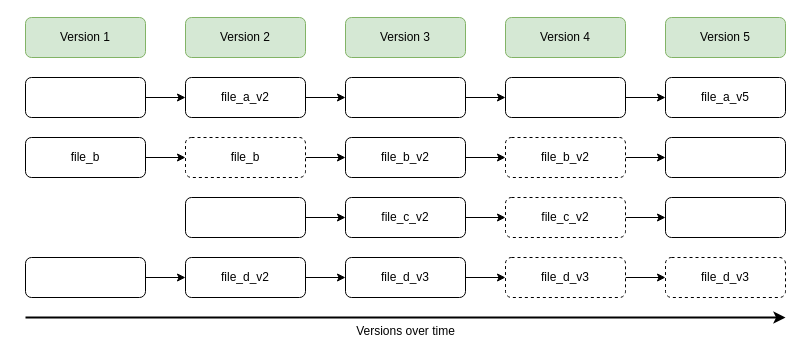
This 811x356 diagram has some shape labels left out. Here are the shapes that lost their labels. From the top down, the box of each, then its label:
(24, 76, 146, 118): file_a
(344, 76, 466, 118): file_a_v3
(504, 76, 626, 118): file_a_v4
(664, 136, 786, 178): file_b_v3
(184, 196, 306, 238): file_c
(664, 196, 786, 238): file_c_v3
(24, 256, 146, 298): file_d
